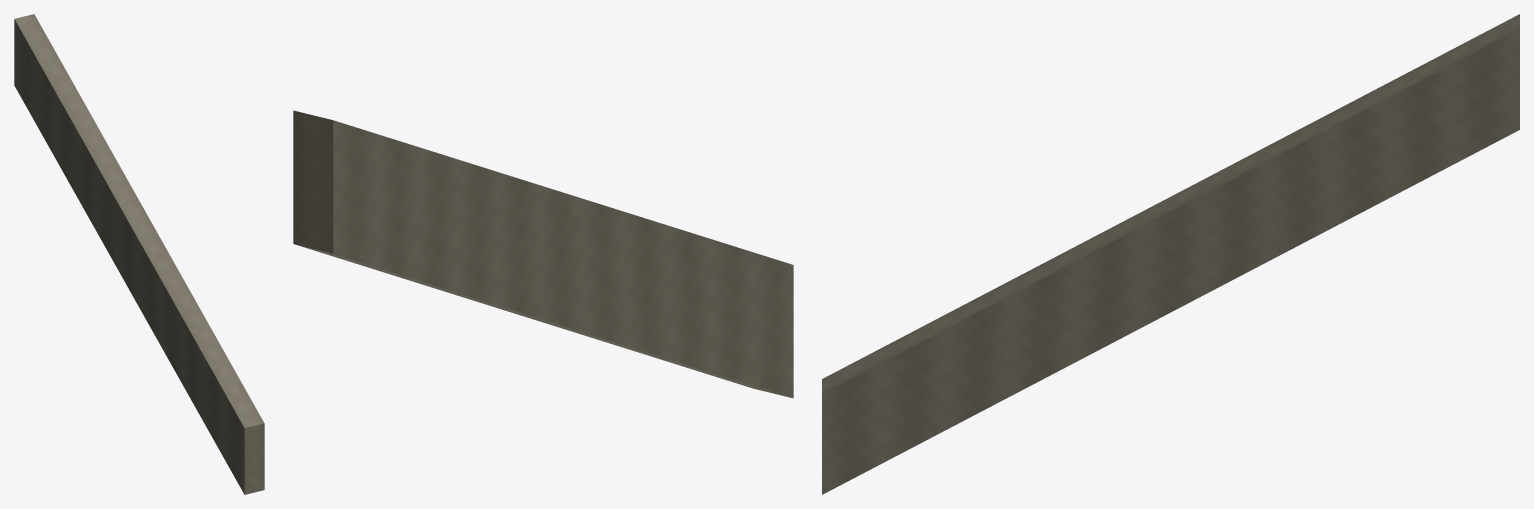
The model's file is MRP_Fascia_Slope_1m.fbx.
3 views of the same model, side by side, from view 1: azimuth 30°, elevation 25°; view 2: azimuth 150°, elevation 25°; view 3: azimuth 270°, elevation 25° (orthographic). The views are drawn at different scales.
Parts seen in each view (by area): view 1: Body; view 2: Body; view 3: Body.
Boxes of the visible parts, x1,y1,x2,y2 form: Body: (14,14,264,494); Body: (293,110,793,398); Body: (822,14,1519,494).
Bounding box in the file's own units: 0.05 × 0.7374 × 1.
